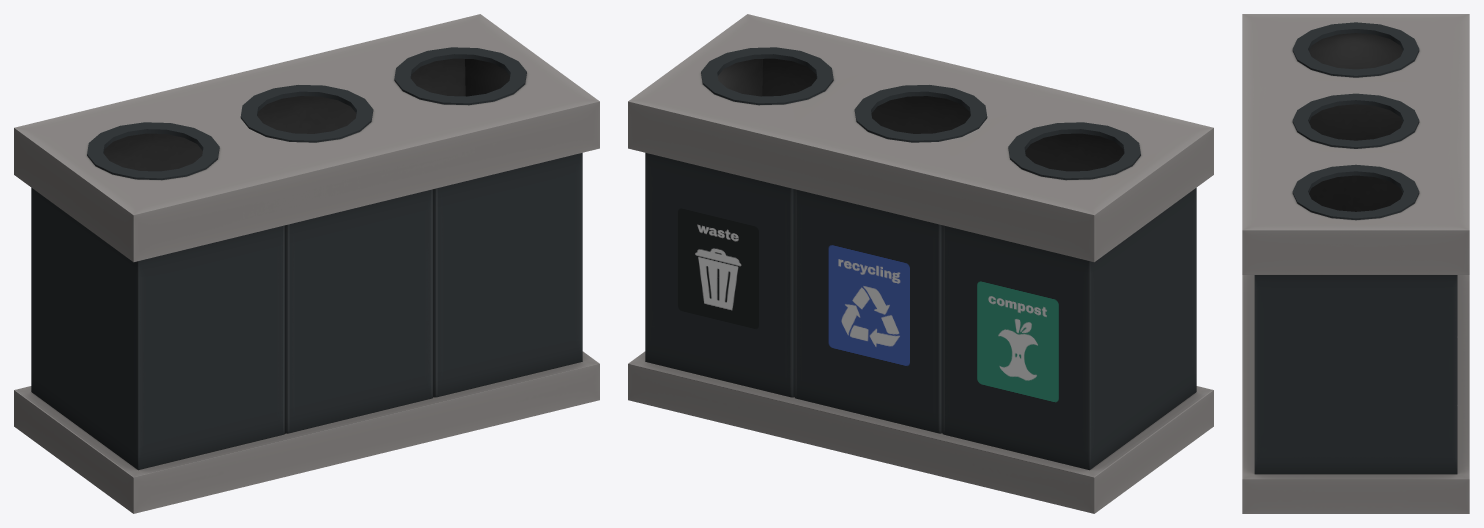
Rendered from trashcan.fbx.
The picture shows the model from 3 angles, left to right: view 1: azimuth 30°, elevation 25°; view 2: azimuth 150°, elevation 25°; view 3: azimuth 270°, elevation 25°; orthographic projection. The views are drawn at different scales.
Visible parts, largest first — view 1: trashcan; view 2: trashcan; view 3: trashcan.
Part boxes in pixels (left/top/right/bottom): trashcan: left=14, top=14, right=599, bottom=513; trashcan: left=628, top=14, right=1213, bottom=513; trashcan: left=1242, top=14, right=1469, bottom=513.
Size of the model in its own units: 224 by 138 by 99.47.
